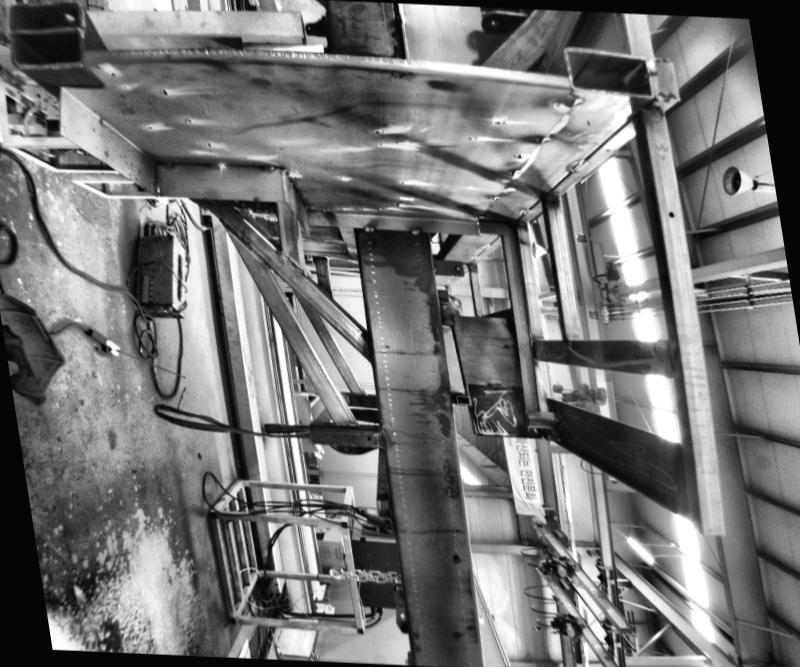hole: (667, 209, 675, 216), (451, 552, 458, 559), (366, 434, 372, 440), (633, 352, 639, 358)
welding: (200, 157, 226, 172), (156, 155, 176, 168), (406, 224, 424, 233), (362, 221, 374, 233), (256, 162, 276, 169)
